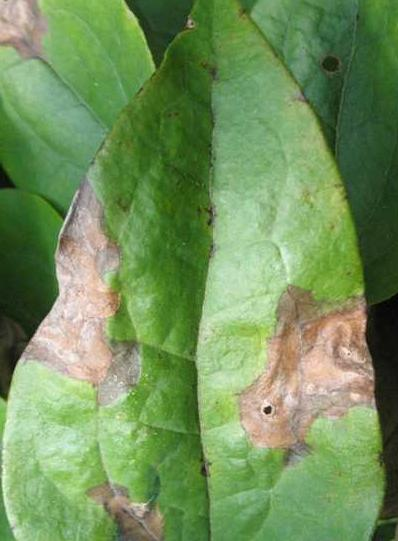Tomato leaf bacterial spot: (0, 4, 378, 541)
